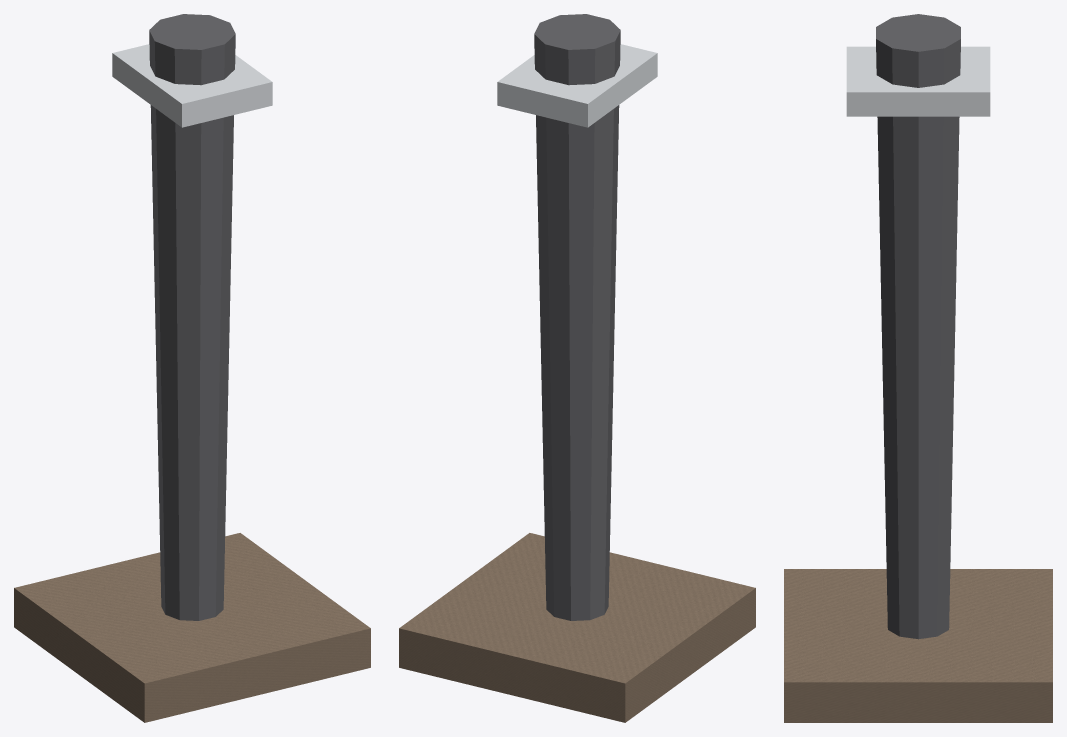
Rendered from wire-anchor-stake.glb.
The picture shows the model from 3 angles, left to right: view 1: azimuth 30°, elevation 25°; view 2: azimuth 150°, elevation 25°; view 3: azimuth 270°, elevation 25°; orthographic projection. The views are drawn at different scales.
Parts seen in each view (by area): view 1: wire-anchor-stake-dark, wire-anchor-stake-soil, wire-anchor-stake-steel; view 2: wire-anchor-stake-dark, wire-anchor-stake-soil, wire-anchor-stake-steel; view 3: wire-anchor-stake-dark, wire-anchor-stake-soil, wire-anchor-stake-steel.
Boxes of the visible parts, x1,y1,x2,y2 form: wire-anchor-stake-dark: (149, 14, 235, 620); wire-anchor-stake-soil: (14, 533, 370, 722); wire-anchor-stake-steel: (112, 44, 272, 127); wire-anchor-stake-dark: (534, 14, 620, 620); wire-anchor-stake-soil: (399, 533, 755, 722); wire-anchor-stake-steel: (497, 44, 657, 127); wire-anchor-stake-dark: (876, 14, 960, 639); wire-anchor-stake-soil: (784, 569, 1052, 722); wire-anchor-stake-steel: (846, 46, 990, 116).
Size of the model in its own units: 0.3 by 0.78 by 0.3.
3 materials, 1 textured.
